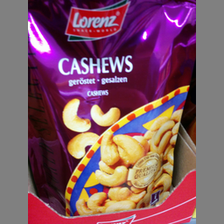nuts: (28, 1, 194, 217)
